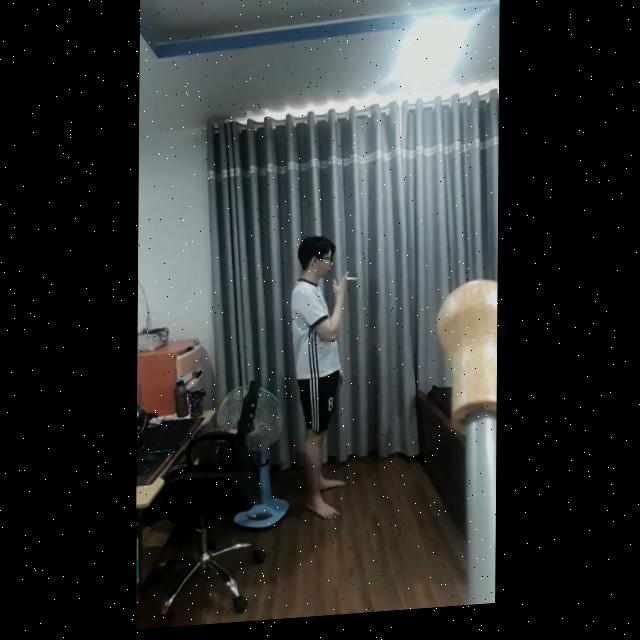cigarette: (343, 282, 359, 287)
